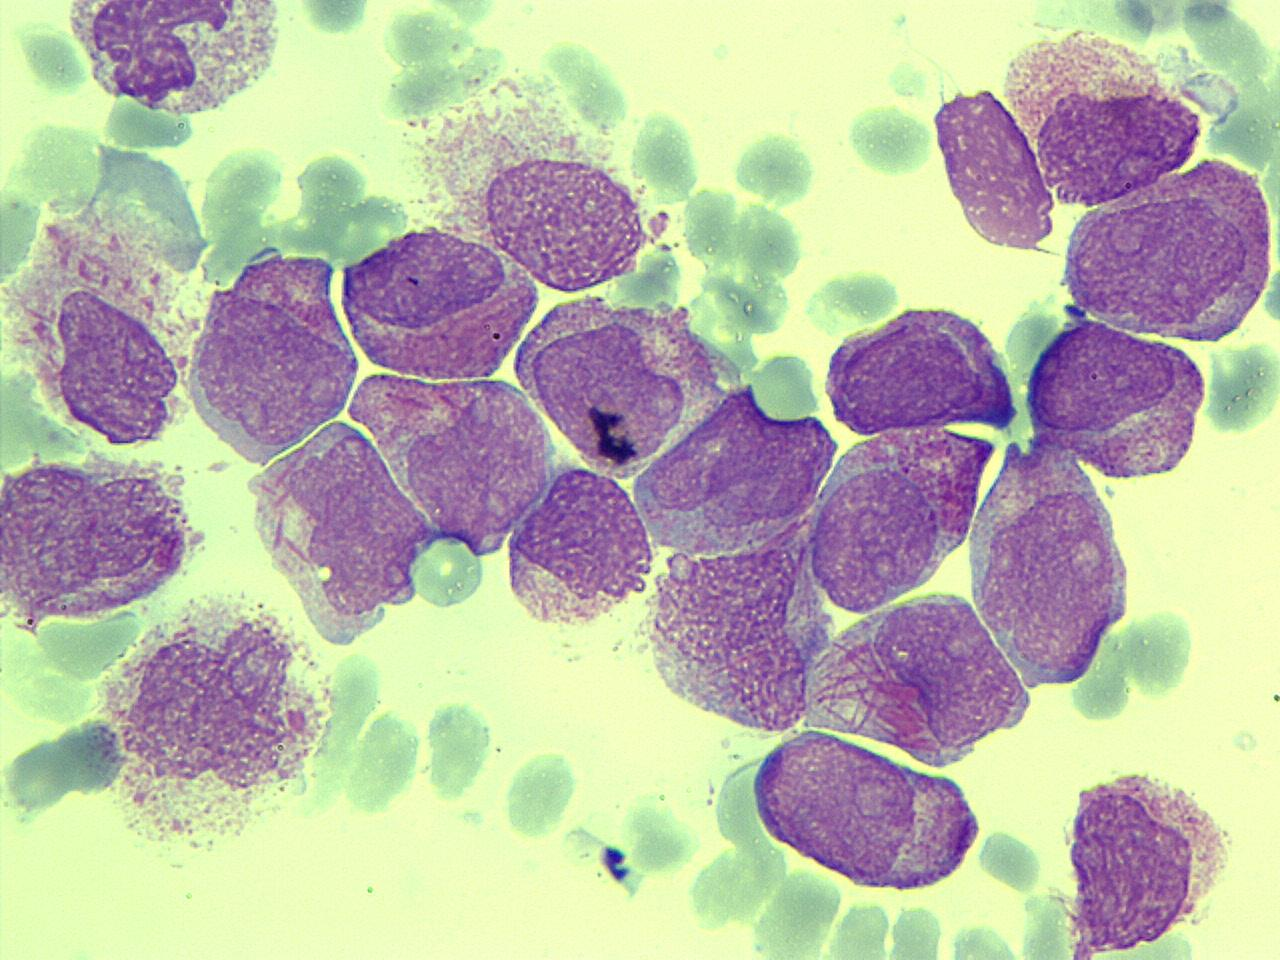Platelets: (500, 748, 585, 838), (843, 102, 938, 178), (294, 0, 376, 38)
WBC: (1, 137, 211, 460), (86, 591, 336, 855), (962, 434, 1141, 694), (800, 582, 1034, 772), (1049, 152, 1279, 344), (246, 415, 434, 645), (748, 724, 992, 898), (512, 283, 722, 474), (185, 242, 364, 466), (1051, 754, 1233, 956), (1, 448, 200, 630), (802, 425, 988, 611), (1016, 315, 1213, 487), (335, 217, 534, 385), (814, 296, 1023, 441), (56, 0, 284, 131), (474, 144, 654, 301), (499, 458, 656, 635), (924, 76, 1064, 254)
